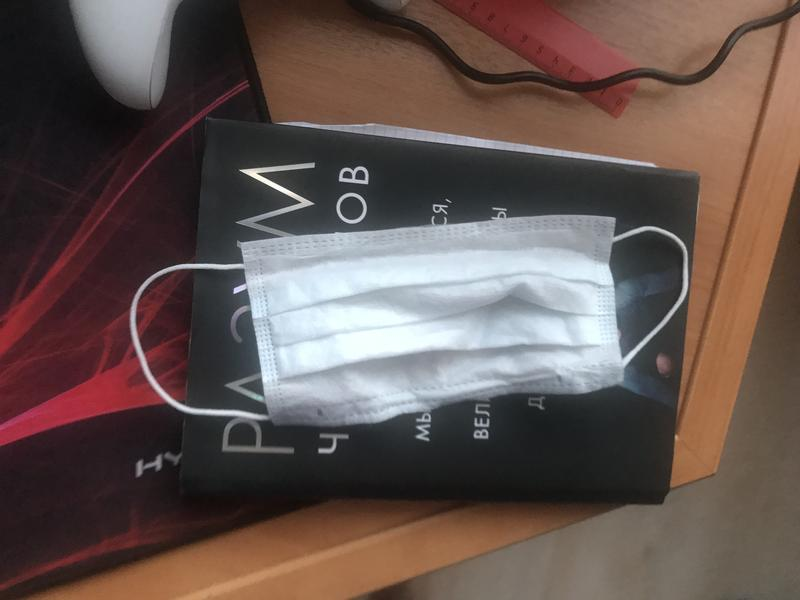medical_mask: (127, 224, 689, 427)
